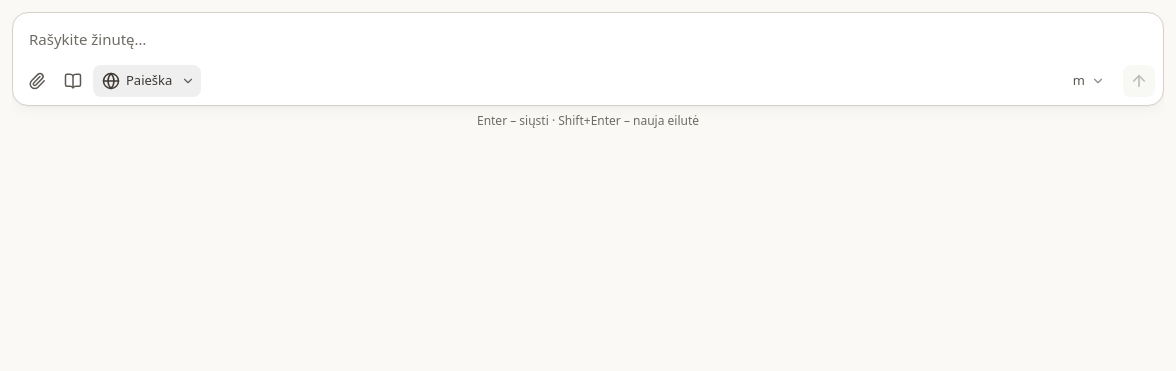
Test: composer links and search › works in Lithuanian at once
Expected: the text "Paieška" is shown, [126,71,172,91]
Click the button named "Paieškos internete parinktys". click: click(188, 81)
box: [176,66,200,96]
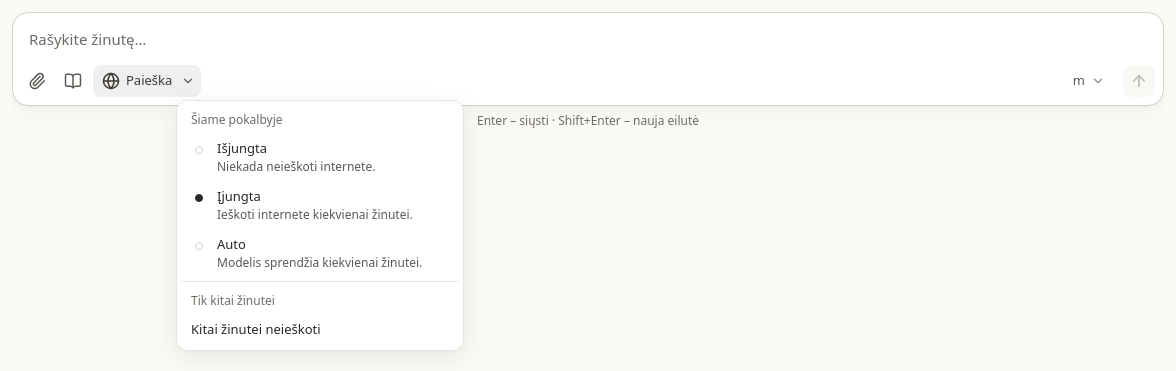
Click the menu item "Kitai žinutei neieškoti". click: click(256, 329)
box: [191,320,320,338]
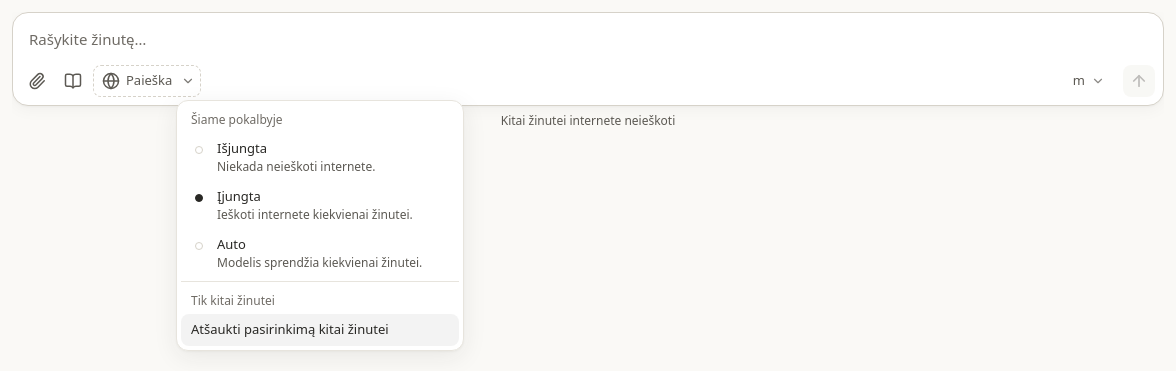
Result: the text "Kitai žinutei internete neieškoti" is shown at [501,112,675,129]
